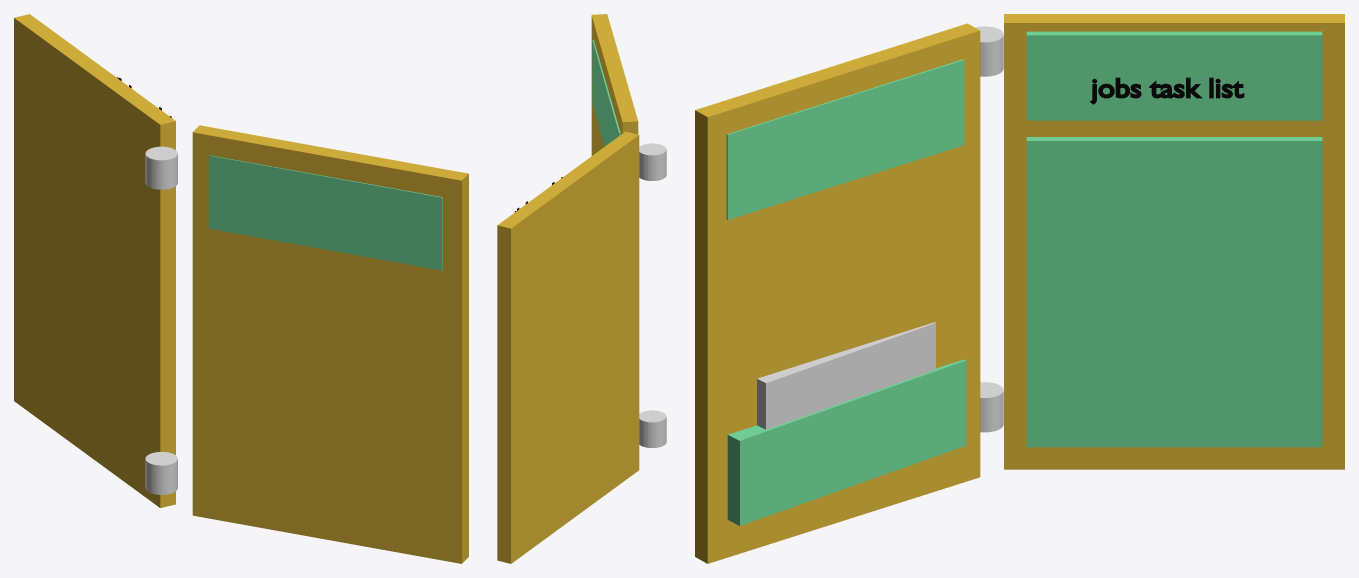
The model's file is main menu .fbx.
The picture shows the model from 3 angles, left to right: view 1: azimuth 30°, elevation 25°; view 2: azimuth 150°, elevation 25°; view 3: azimuth 270°, elevation 25°; orthographic projection. The views are drawn at different scales.
Visible parts, largest first — view 1: Cube.002, Cube, Cube.003, Cylinder, Cylinder.001; view 2: Cube, Cube.002, Cube.003, Cylinder, Cylinder.001; view 3: Cube.006, Cube.002, Cube, Cube.001, Cube.004, Cube.003, Cube.005, Text, Cylinder, Cylinder.001.
Boxes of the visible parts, x1,y1,x2,y2 form: Cube.002: (192, 125, 468, 563); Cube: (14, 14, 175, 507); Cube.003: (209, 155, 442, 270); Cylinder: (145, 146, 177, 189); Cylinder.001: (145, 452, 177, 494); Cube: (497, 131, 639, 563); Cube.002: (591, 14, 638, 155); Cube.003: (592, 39, 620, 146); Cylinder: (639, 143, 666, 180); Cylinder.001: (639, 410, 666, 447); Cube.006: (1026, 137, 1322, 447); Cube.002: (695, 23, 980, 563); Cube: (1004, 14, 1344, 469); Cube.001: (1026, 31, 1322, 120); Cube.004: (727, 359, 966, 525); Cube.003: (726, 59, 964, 219); Cube.005: (757, 322, 935, 429); Text: (1090, 77, 1244, 104); Cylinder: (975, 26, 1003, 76); Cylinder.001: (980, 382, 1003, 432).
Bounding box in the file's own units: 896 × 1621 × 2137.
